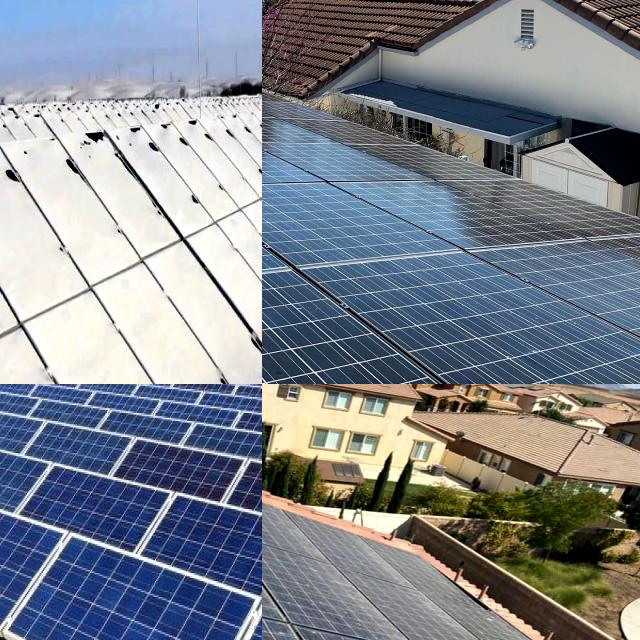bird: (262, 599, 296, 640), (262, 586, 284, 638), (471, 608, 497, 636), (262, 605, 278, 640)
crack: (0, 486, 88, 621), (169, 499, 262, 613), (120, 434, 240, 504), (39, 426, 132, 478), (0, 437, 57, 521), (54, 569, 104, 612), (68, 537, 108, 576), (77, 617, 137, 640), (130, 617, 182, 640), (113, 620, 158, 640), (238, 478, 258, 496), (246, 459, 262, 480)
panel: (9, 147, 118, 290), (133, 255, 242, 384), (0, 162, 52, 352), (143, 133, 231, 229), (0, 319, 123, 384), (42, 96, 218, 136), (0, 104, 71, 153), (237, 116, 262, 162)
